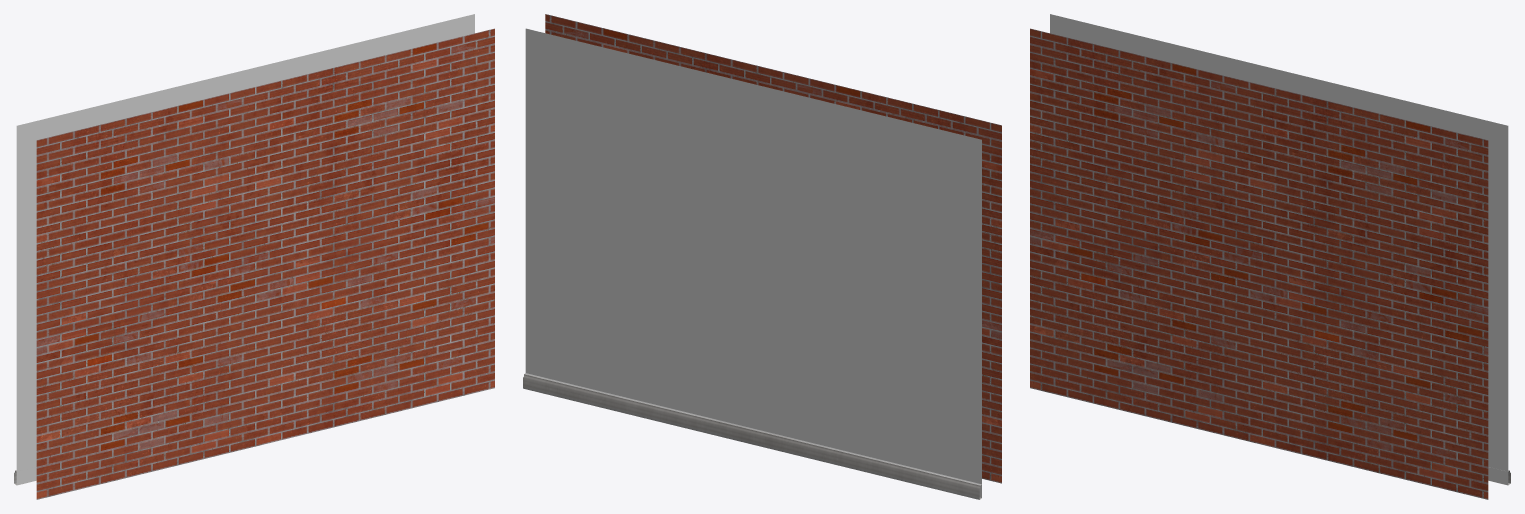
Rendered from House_02_Wall_01.fbx.
3 views of the same model, side by side, from view 1: azimuth 30°, elevation 25°; view 2: azimuth 150°, elevation 25°; view 3: azimuth 330°, elevation 25° (orthographic).
Visible parts, largest first — view 1: House_02_Wall_01; view 2: House_02_Wall_01; view 3: House_02_Wall_01.
Boxes of the visible parts, x1,y1,x2,y2 form: House_02_Wall_01: (14,14,494,499); House_02_Wall_01: (523,14,1001,499); House_02_Wall_01: (1030,14,1510,499).
Size of the model in its own units: 400 by 300 by 33.93.
